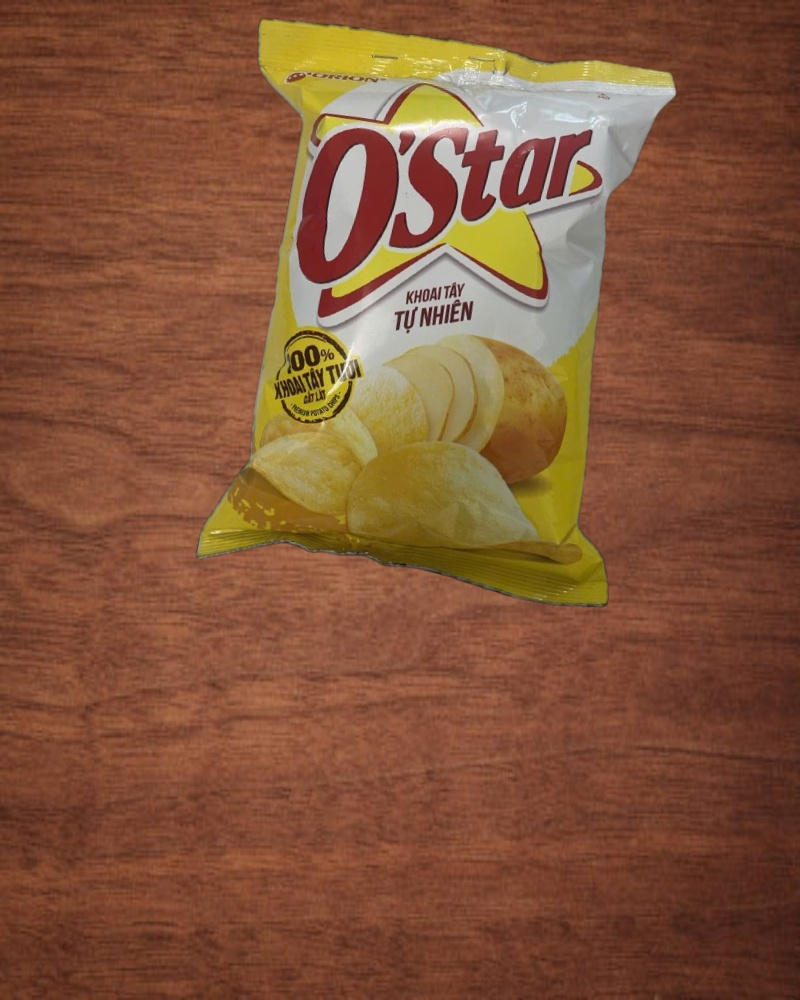O'star: (168, 1, 700, 630)
